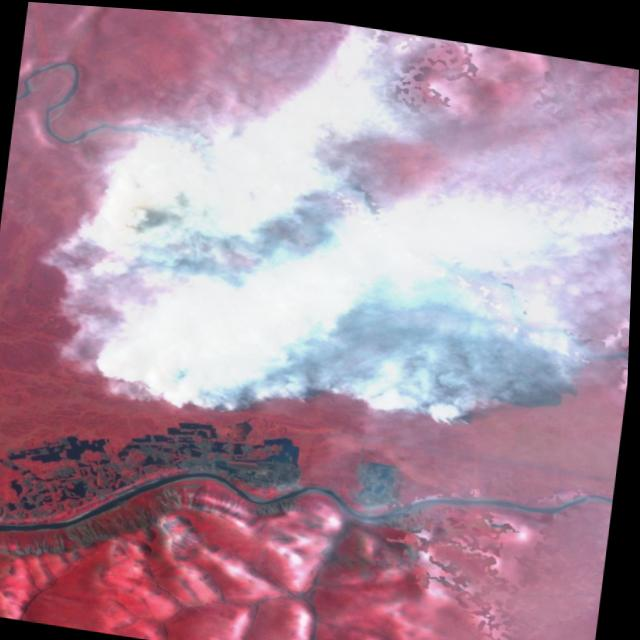fire: (68, 151, 612, 462)
